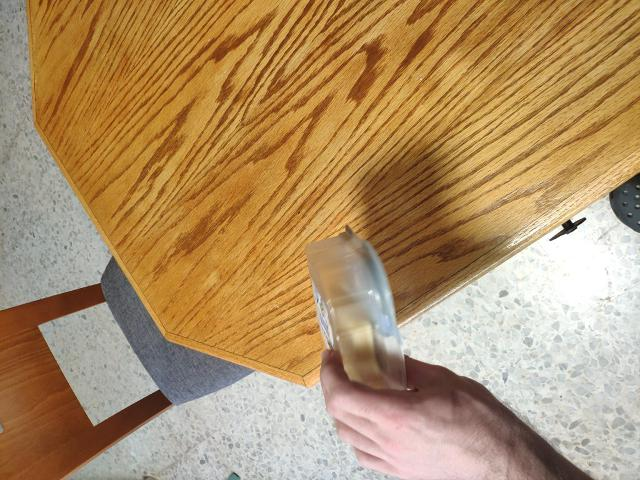cheese: (302, 248, 434, 388)
